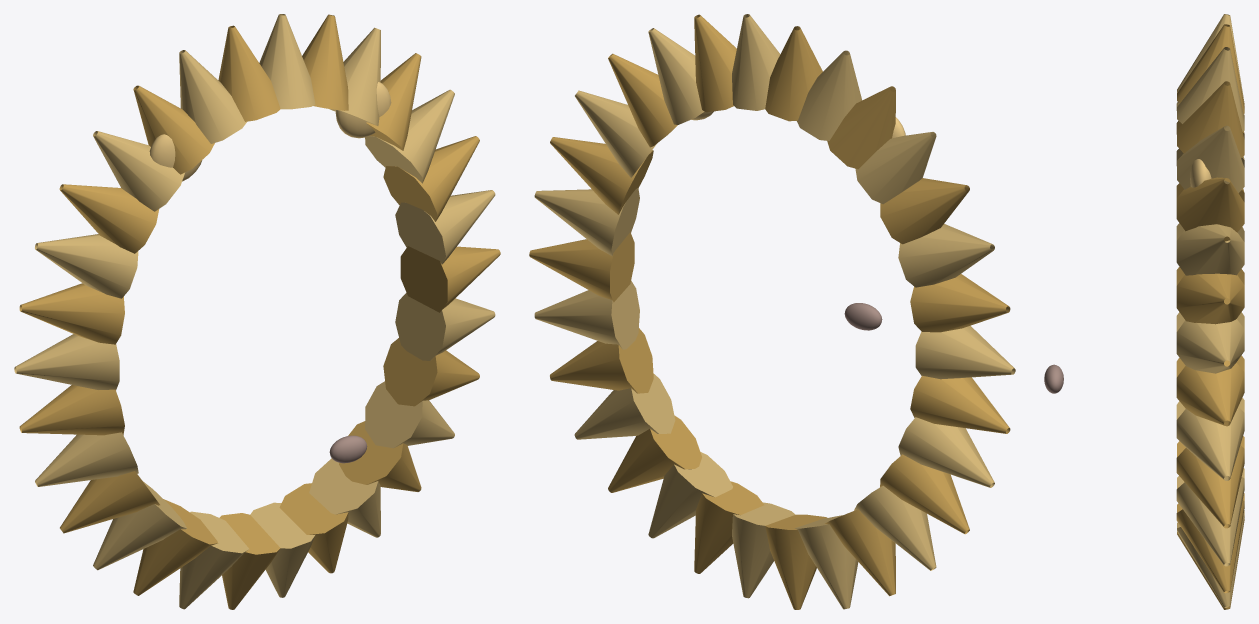
The model's file is lion.glb.
The picture shows the model from 3 angles, left to right: view 1: azimuth 30°, elevation 25°; view 2: azimuth 150°, elevation 25°; view 3: azimuth 270°, elevation 25°; orthographic projection. The views are drawn at different scales.
Parts seen in each view (by area): view 1: mane, ears, nose; view 2: mane, nose; view 3: mane, nose, ears.
Part boxes in pixels (bbox=[...]): mane: bbox=[14, 14, 500, 609]; ears: bbox=[149, 82, 391, 181]; nose: bbox=[329, 435, 367, 463]; mane: bbox=[529, 14, 1015, 609]; nose: bbox=[844, 303, 882, 330]; mane: bbox=[1176, 14, 1244, 609]; nose: bbox=[1044, 364, 1063, 393]; ears: bbox=[1190, 159, 1211, 187].
Bounding box in the file's own units: 3.21 × 3.69 × 1.21.
